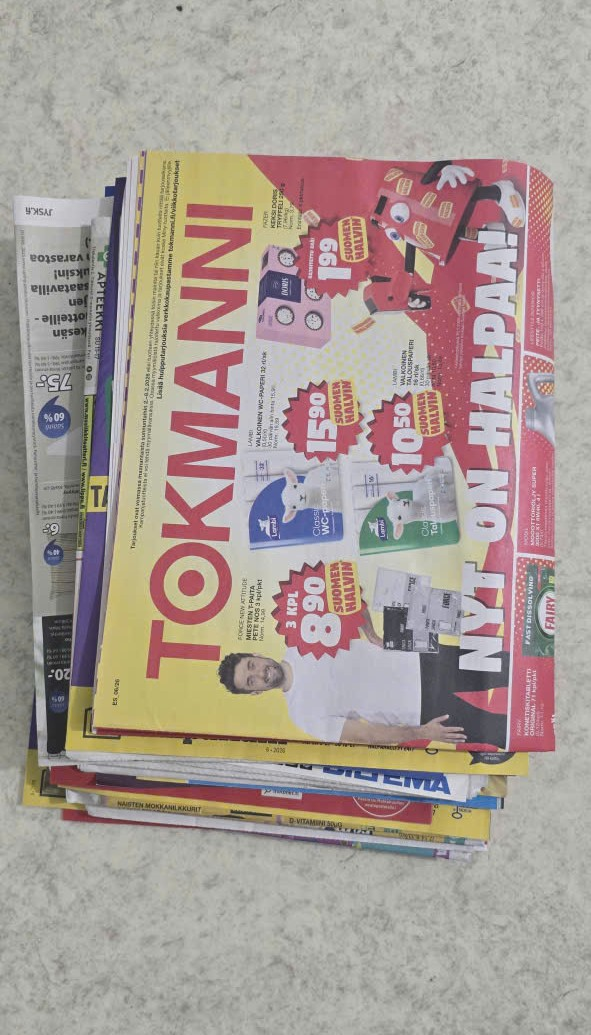paper: (0, 137, 563, 875)
